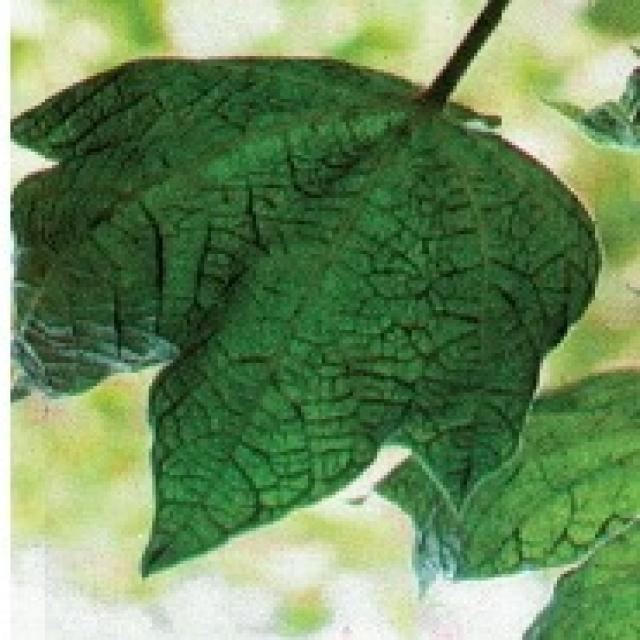Leaf Curl Virus: (63, 96, 520, 413)
